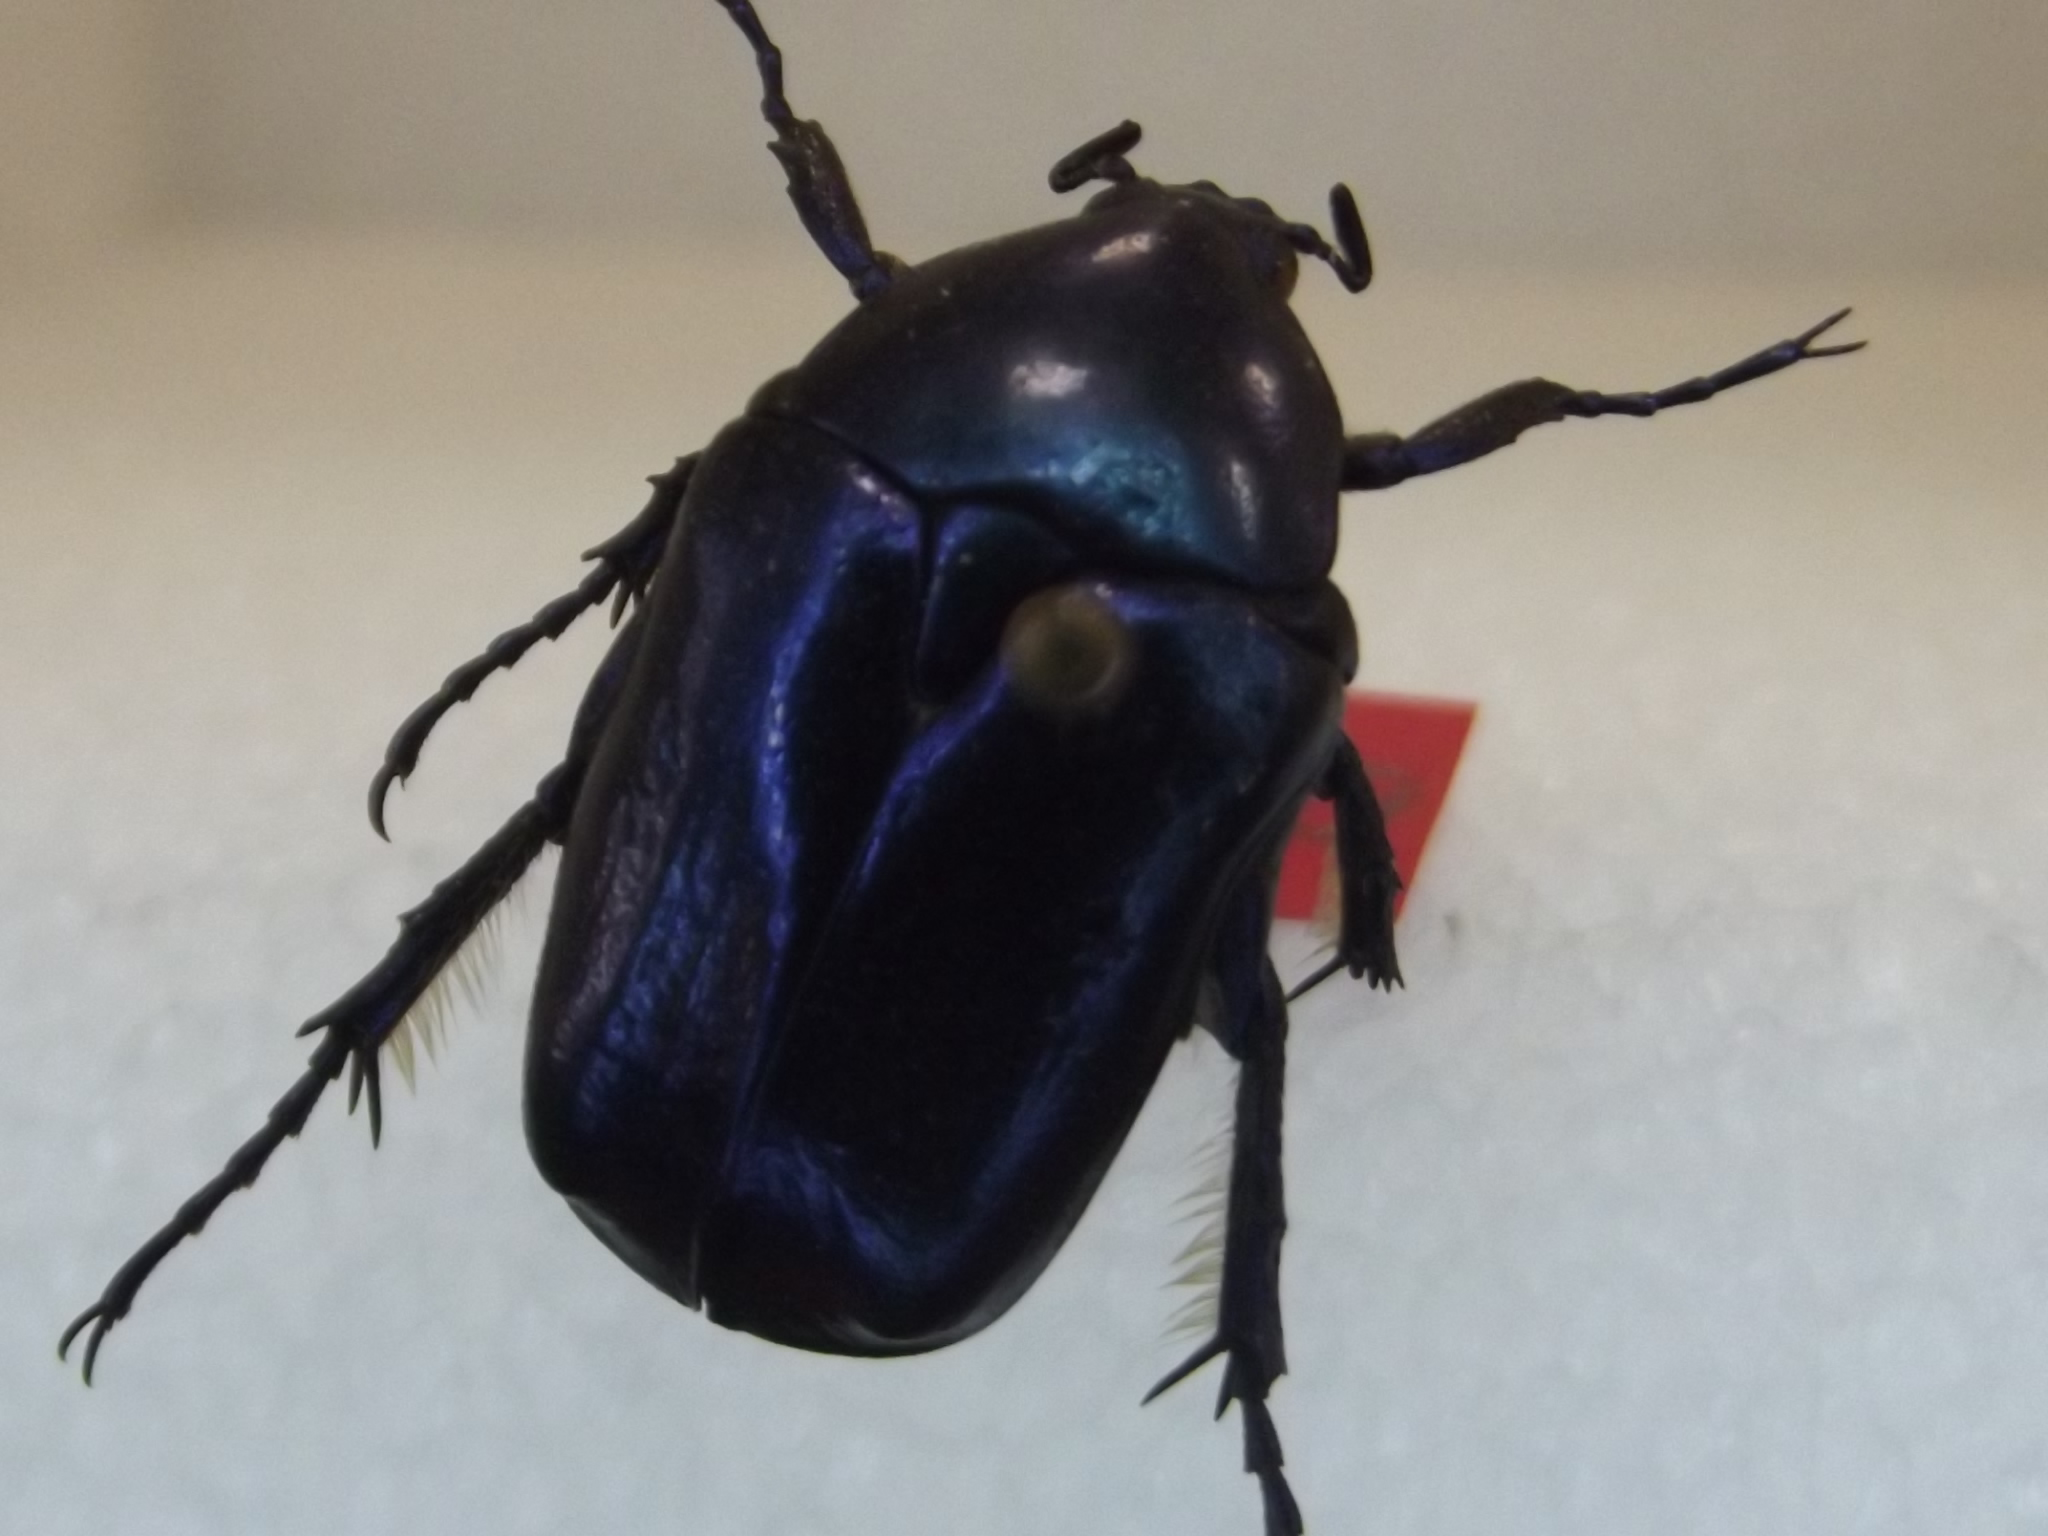Protaetia_besucheti: (8, 6, 1892, 1530)
